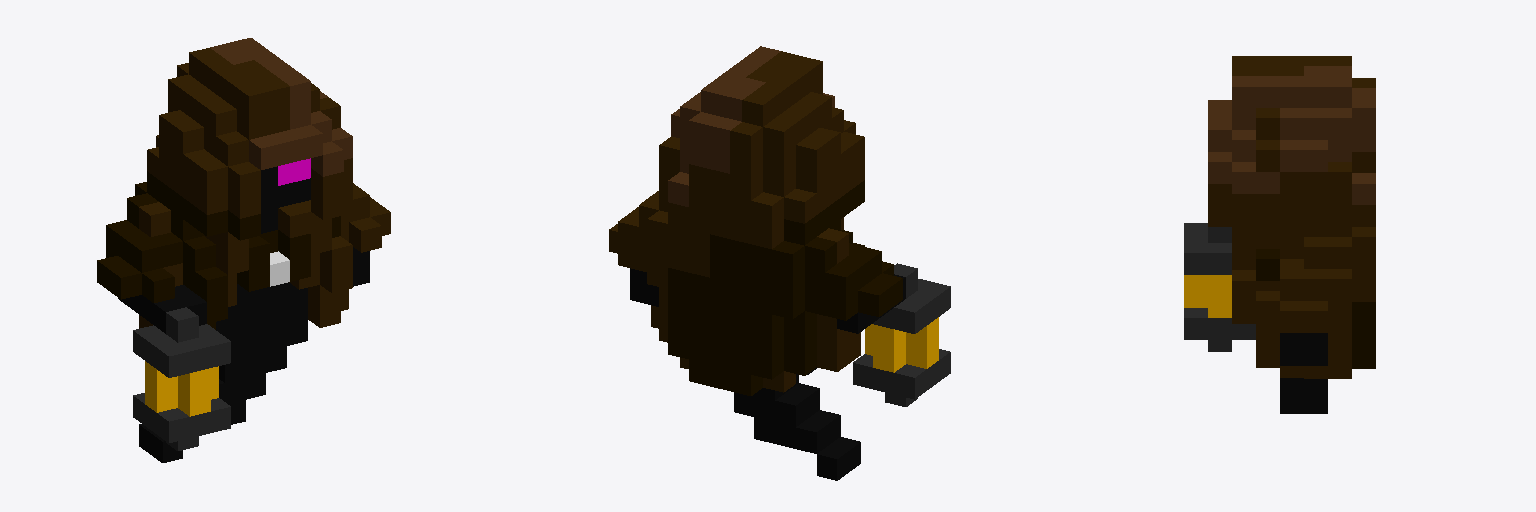
3 views of the same model, side by side, from view 1: azimuth 30°, elevation 25°; view 2: azimuth 150°, elevation 25°; view 3: azimuth 270°, elevation 25° (orthographic).
Size of the model in its own units: 13 by 17 by 8.
Materials: 1 (1 with a texture image).